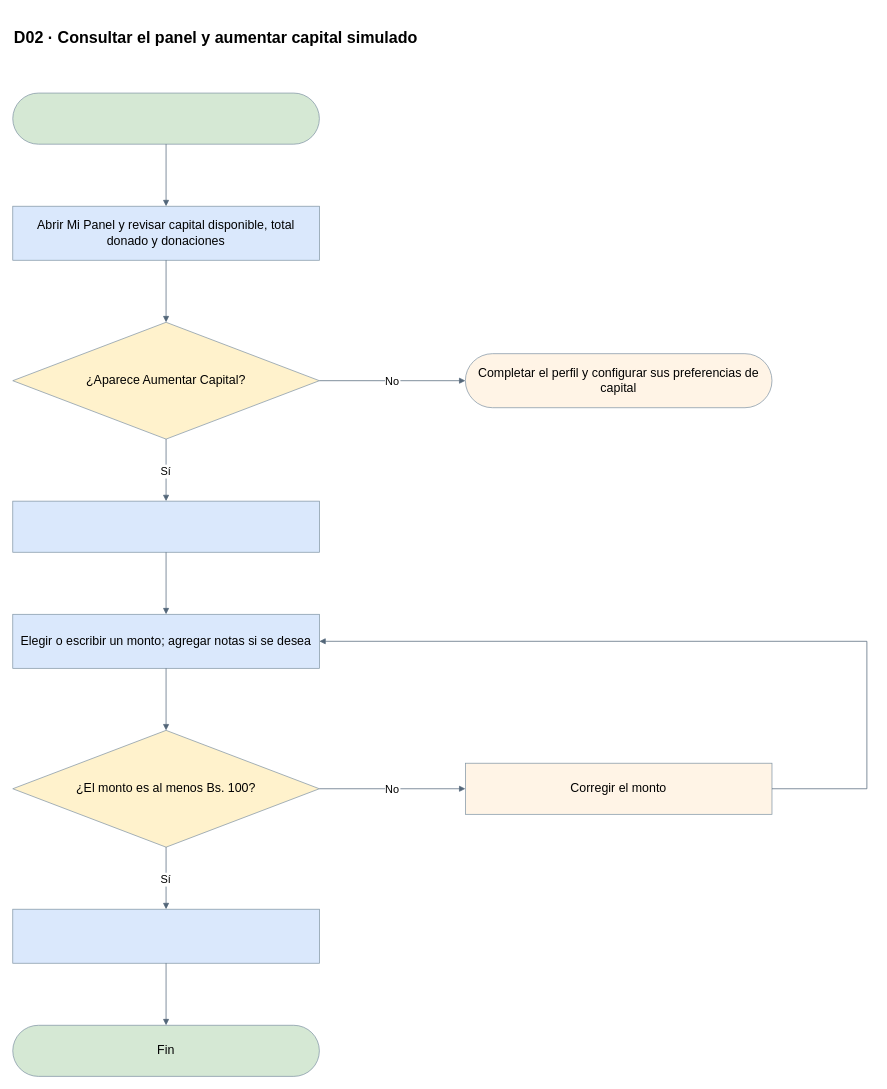
Some shapes in this 887 by 1089 pixel diagram are drawn without their labels. Here are the shapes that lost their labels. From the top down, the box of each, then its label:
(12, 92, 319, 144): Inicio
(12, 500, 319, 552): Pulsar Aumentar Capital
(12, 908, 319, 963): Enviar y comprobar la confirmación y el saldo actualizado
